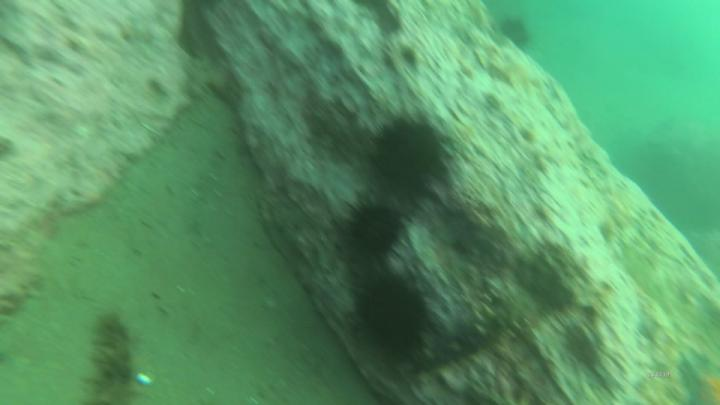echinus: (358, 109, 464, 210), (335, 268, 448, 362), (337, 190, 425, 269)
starfish: (671, 342, 720, 405)
